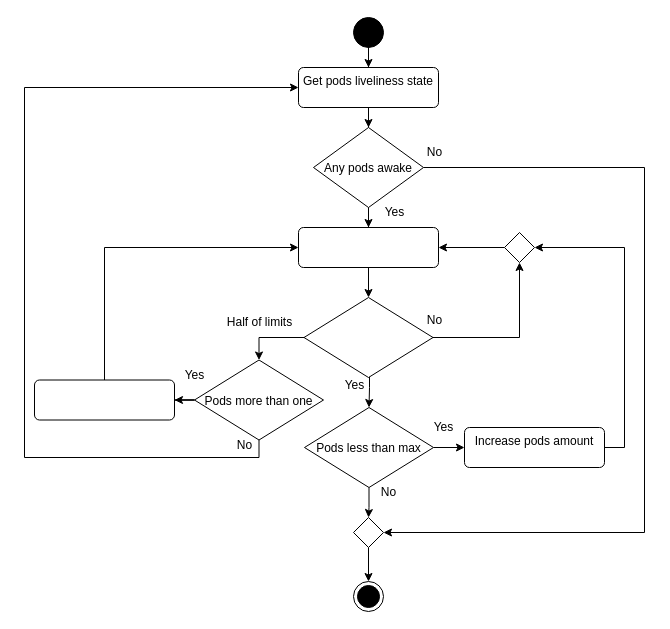
This 670x629 diagram has some shape labels left out. Here are the shapes that lost their labels. From the top down, the centre of each, then its label:
At point (368, 247): "Get pods metrics".
At point (368, 337): "Metrics are outside of limits for pod".
At point (104, 399): "Decrease pods amount".
